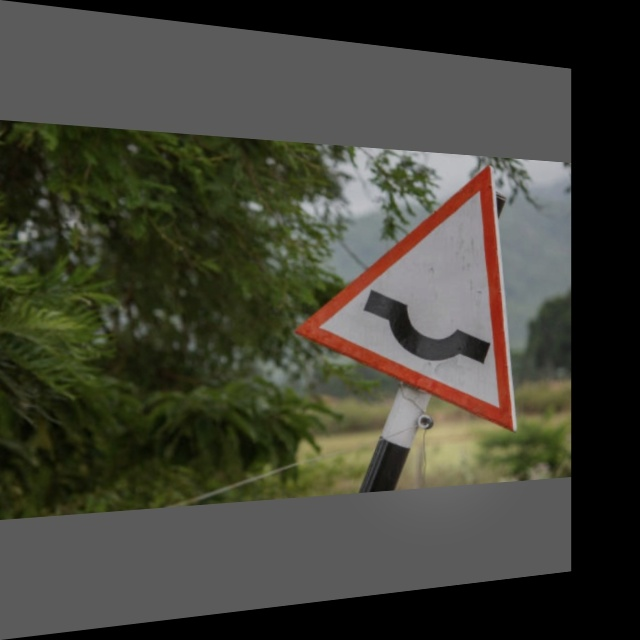Dangerous_Dip: (292, 154, 522, 427)
